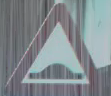Speed Breaker ahead: (9, 3, 98, 86)
